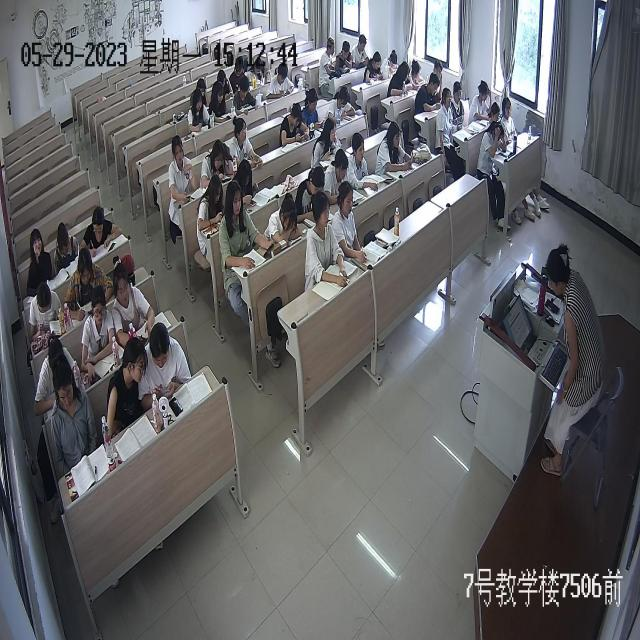distracted: (52, 362, 97, 470), (105, 338, 148, 435), (80, 286, 118, 380), (29, 283, 65, 345), (478, 119, 508, 173), (54, 219, 78, 272), (317, 36, 335, 81), (334, 40, 354, 77)
focused: (307, 191, 348, 289), (111, 258, 156, 344), (33, 337, 80, 412), (67, 248, 114, 315), (332, 181, 370, 263), (81, 207, 124, 257), (295, 165, 328, 225), (349, 132, 380, 195), (26, 229, 54, 291), (230, 119, 264, 170), (310, 116, 343, 166), (198, 173, 224, 234), (326, 149, 354, 203), (436, 89, 456, 150), (234, 76, 260, 117), (469, 81, 492, 126), (267, 64, 294, 100), (387, 59, 413, 96), (210, 82, 232, 124), (244, 56, 267, 92), (450, 82, 466, 131), (502, 96, 518, 145), (229, 55, 248, 95), (351, 34, 372, 70), (363, 50, 383, 84), (380, 46, 400, 80), (487, 102, 502, 143), (431, 59, 444, 97)
sleep: (266, 194, 304, 248)
using_phone: (219, 181, 275, 273), (138, 322, 192, 408), (375, 121, 417, 173), (168, 135, 198, 206), (199, 139, 236, 187), (279, 101, 313, 149), (232, 159, 260, 210), (414, 73, 443, 118), (188, 89, 214, 135), (328, 88, 356, 127), (301, 90, 326, 130), (408, 58, 429, 92), (217, 68, 235, 102)
